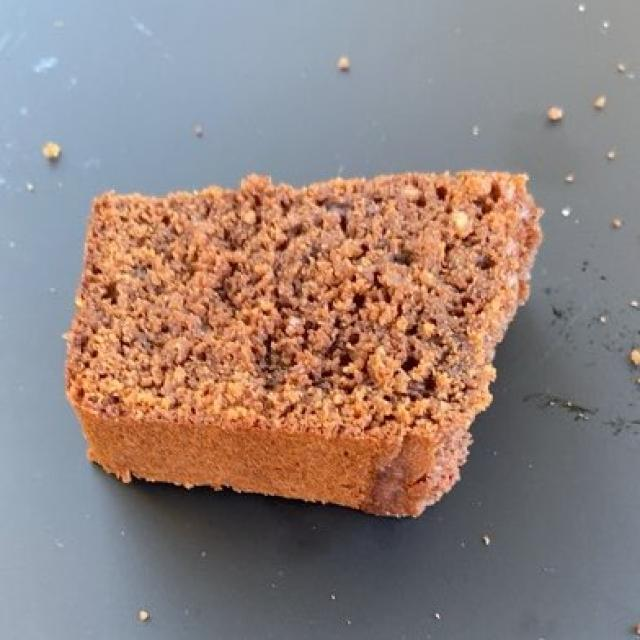thucan: (66, 173, 542, 516)
